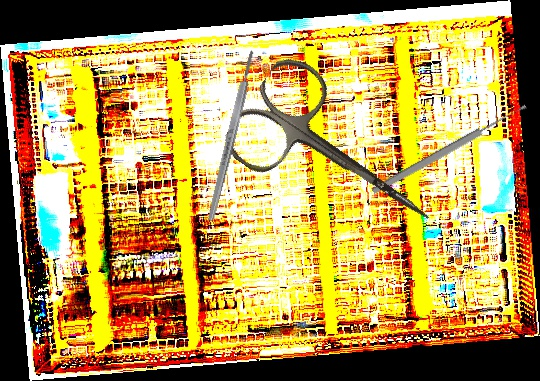Iris Scissors: (217, 48, 462, 270)
Scalpel Handle: (204, 49, 258, 223)
Surgical Spoon: (370, 102, 529, 196)
